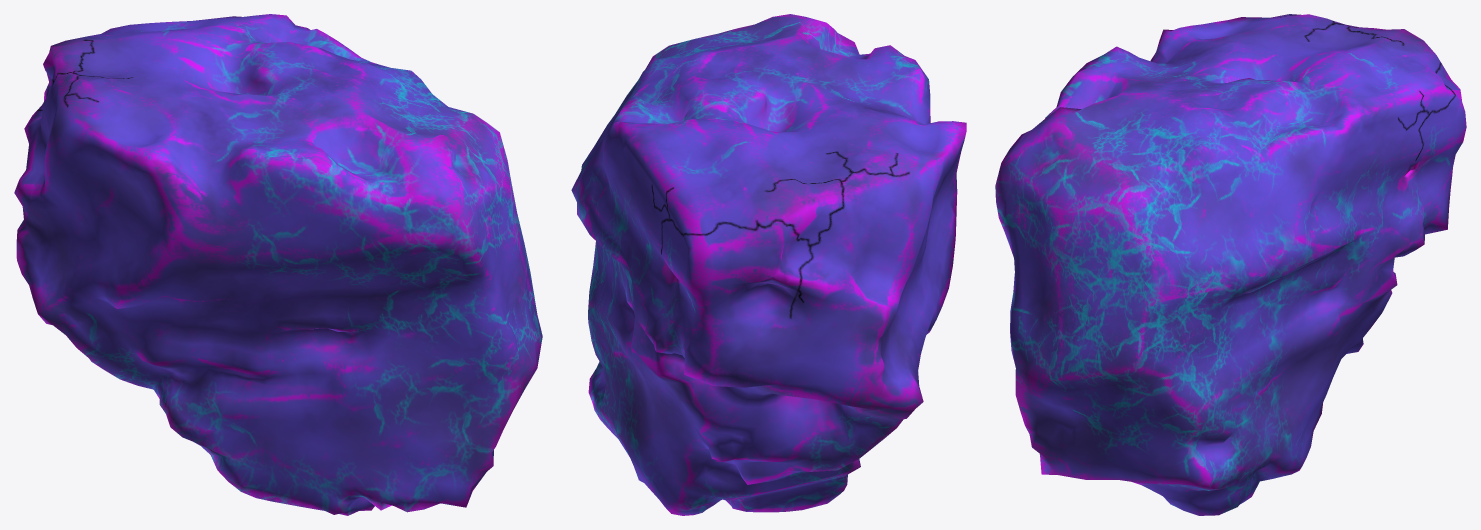
File: rock texture export.fbx
The picture shows the model from 3 angles, left to right: view 1: azimuth 30°, elevation 25°; view 2: azimuth 150°, elevation 25°; view 3: azimuth 270°, elevation 25°; orthographic projection. The views are drawn at different scales.
Parts seen in each view (by area): view 1: Volume23; view 2: Volume23; view 3: Volume23.
Part boxes in pixels (bbox=[...]): Volume23: bbox=[14, 14, 542, 515]; Volume23: bbox=[571, 14, 966, 515]; Volume23: bbox=[995, 14, 1466, 515].
Size of the model in its own units: 181 by 182 by 199.
